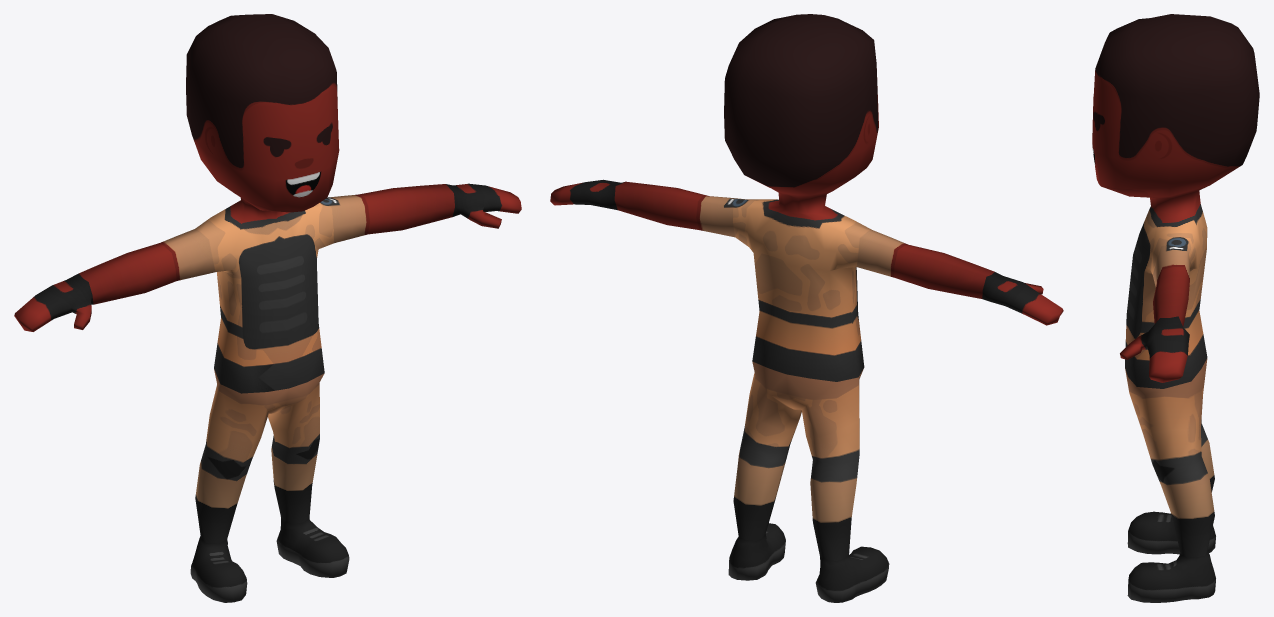
The model's file is attack.fbx.
3 renders of one model, left to right at view 1: azimuth 30°, elevation 25°; view 2: azimuth 150°, elevation 25°; view 3: azimuth 270°, elevation 25°, orthographic.
Parts seen in each view (by area): view 1: Character; view 2: Character; view 3: Character.
Boxes of the visible parts, left/top/right/bottom form: Character: left=14, top=14, right=521, bottom=602; Character: left=550, top=14, right=1063, bottom=602; Character: left=1092, top=14, right=1259, bottom=602.
Size of the model in its own units: 362 by 376 by 105.
Materials: 1 (1 with a texture image).
